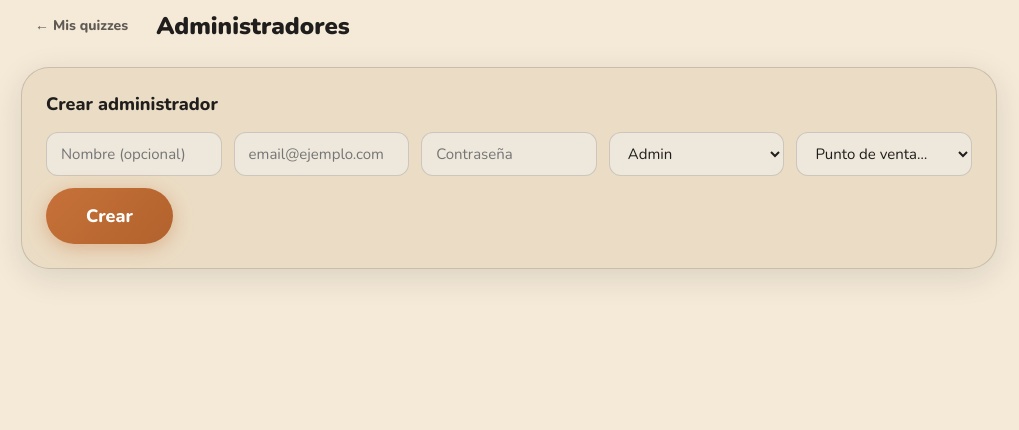
AdminsView — create form › sends a trimmed name when the create form name field is filled
The width and height of the screenshot is (1019, 430).
Step 1. Type "  Nombre Apellido  " into the field with id "name-input" → {"x": 134, "y": 154}, box [46,132,222,176]
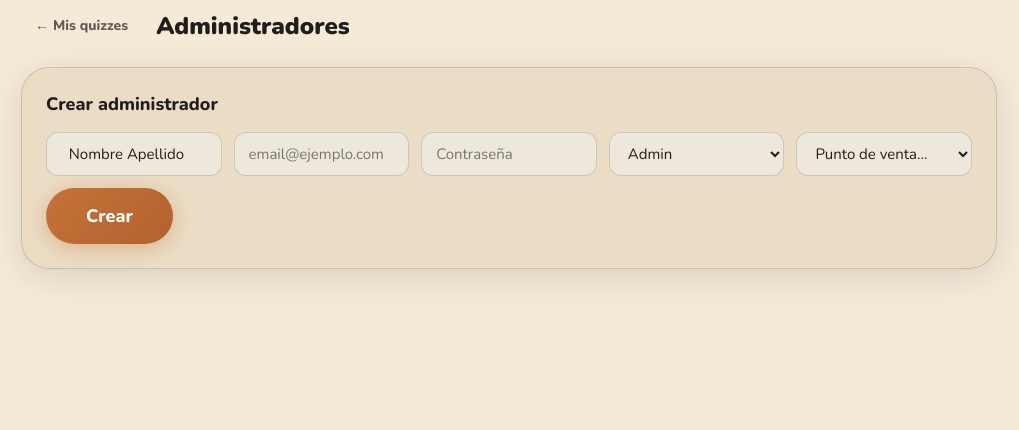
Step 2. Type "n@x.com" into the field with id "email-input" → {"x": 321, "y": 154}, box [234,132,409,176]
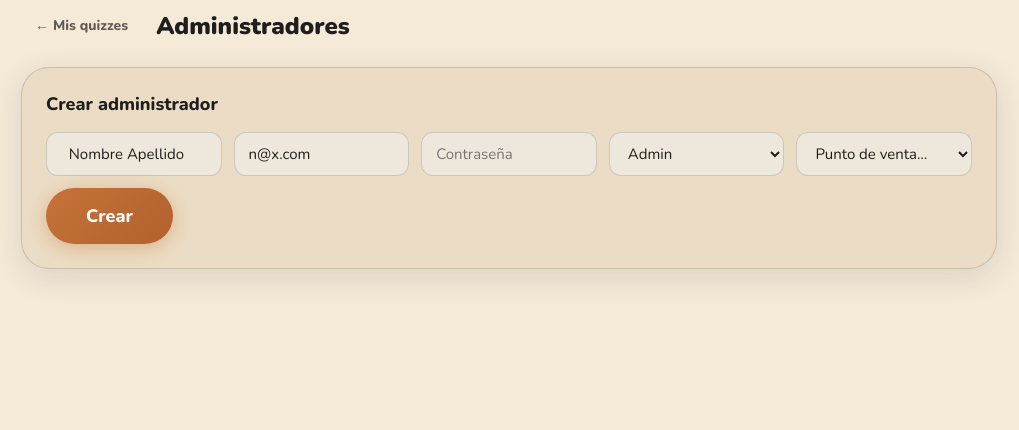
Step 3. Type "pw12345" into the password field with placeholder "Contraseña" → {"x": 509, "y": 154}, box [421,132,597,176]
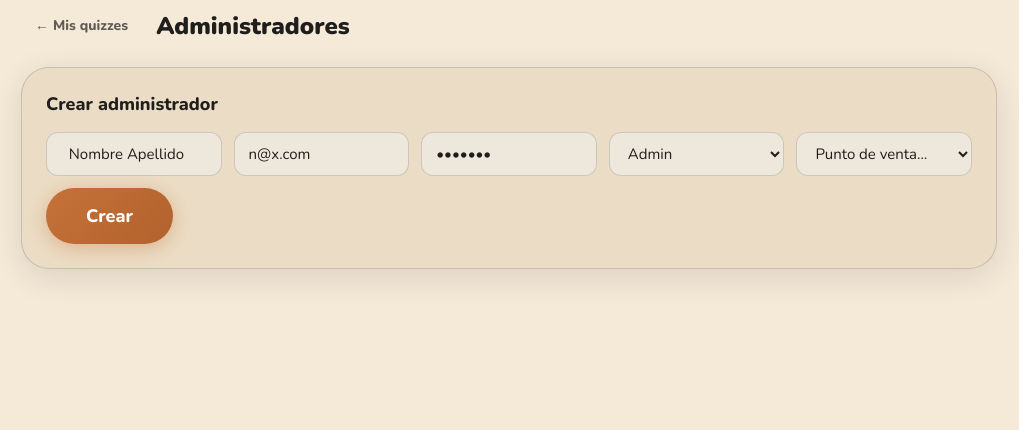
Step 4. Select "Laureles" in the 2nd dropdown → {"x": 884, "y": 154}, box [796,132,972,176]
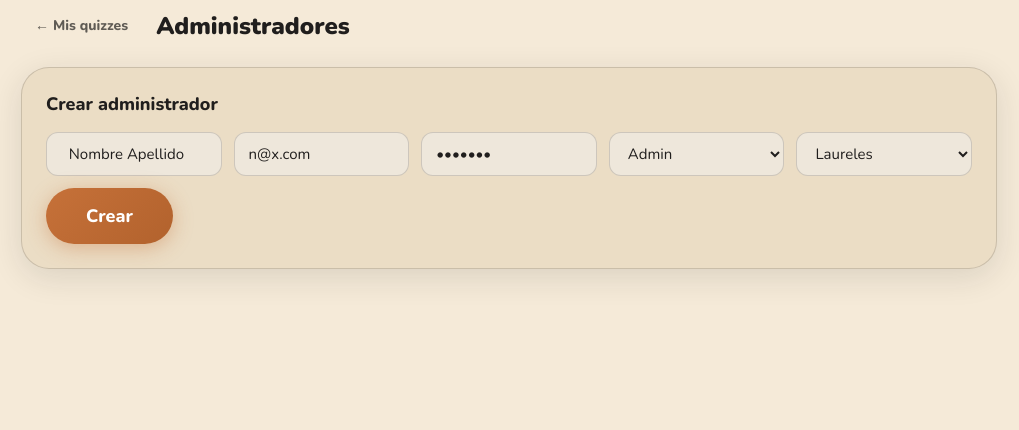
Step 5. Submit the form, box [46,132,972,244]
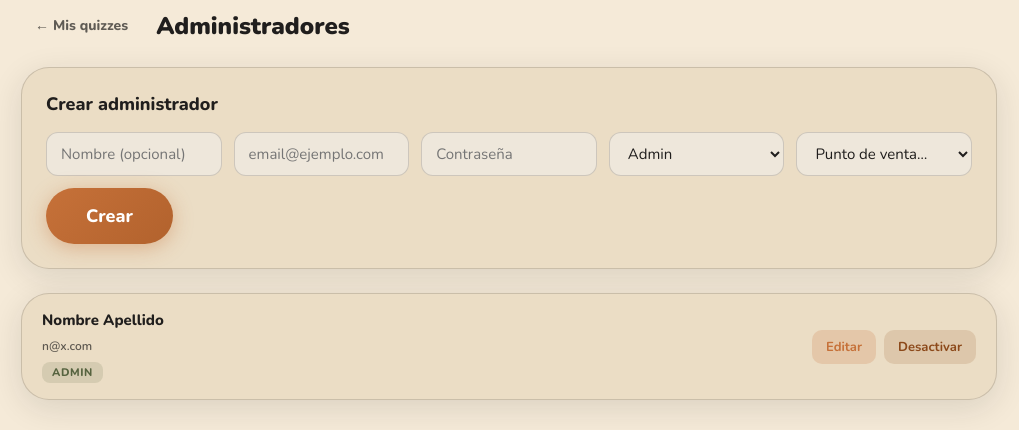
expect the text "Nombre Apellido" is shown: met, box [42,310,164,330]
